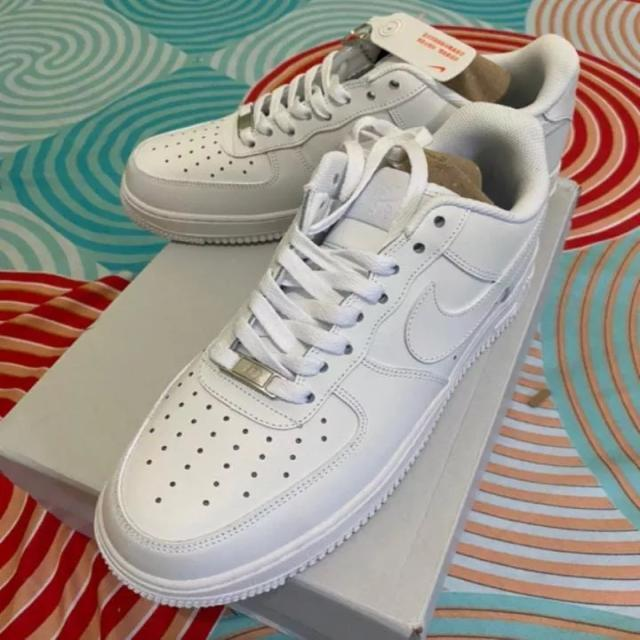nike original air force: (89, 101, 558, 608), (115, 10, 585, 248)
